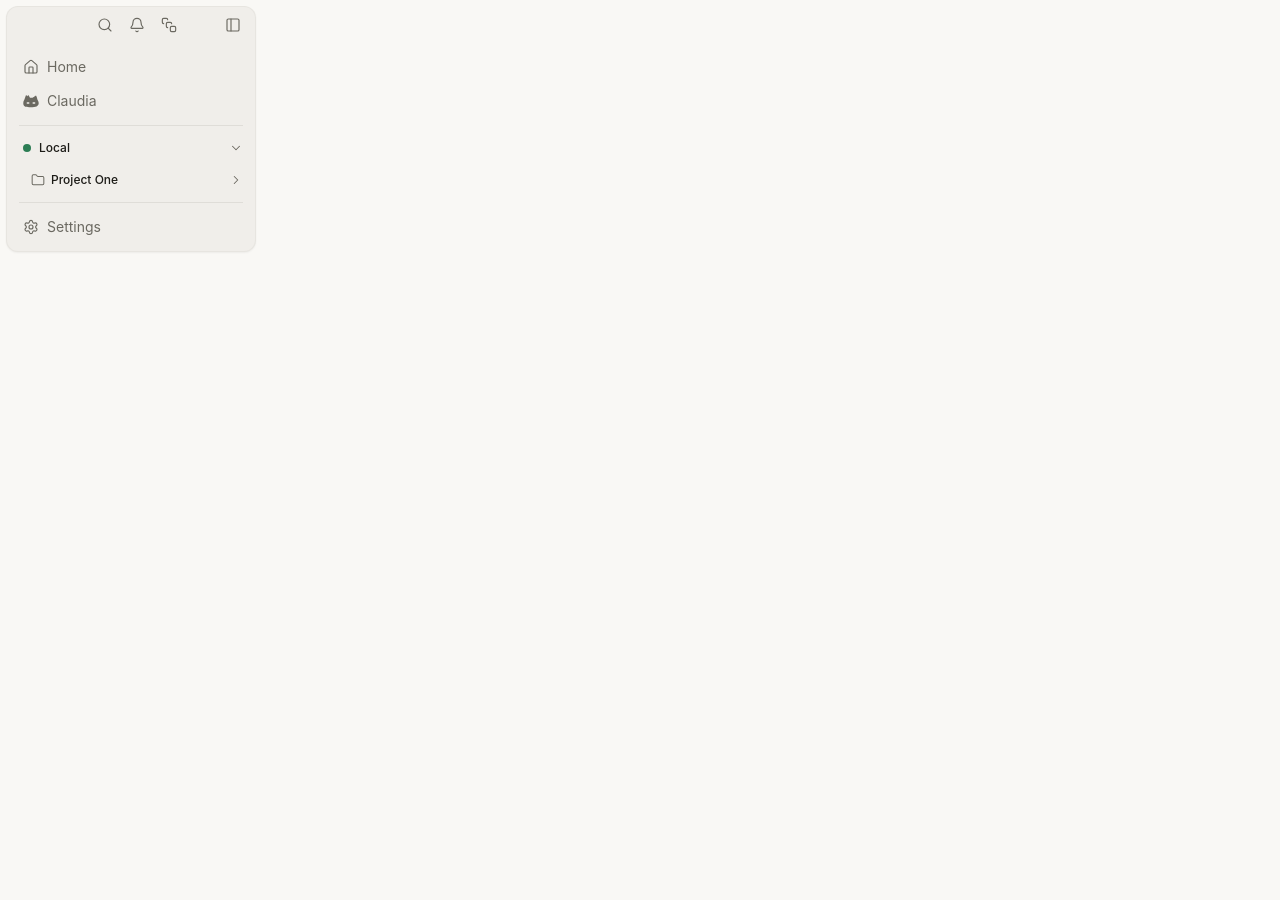
Test case: Sidebar › shows "Searching..." while search is in progress
Click the button titled "Search messages". click: [105, 25]
box: [91,11,119,39]
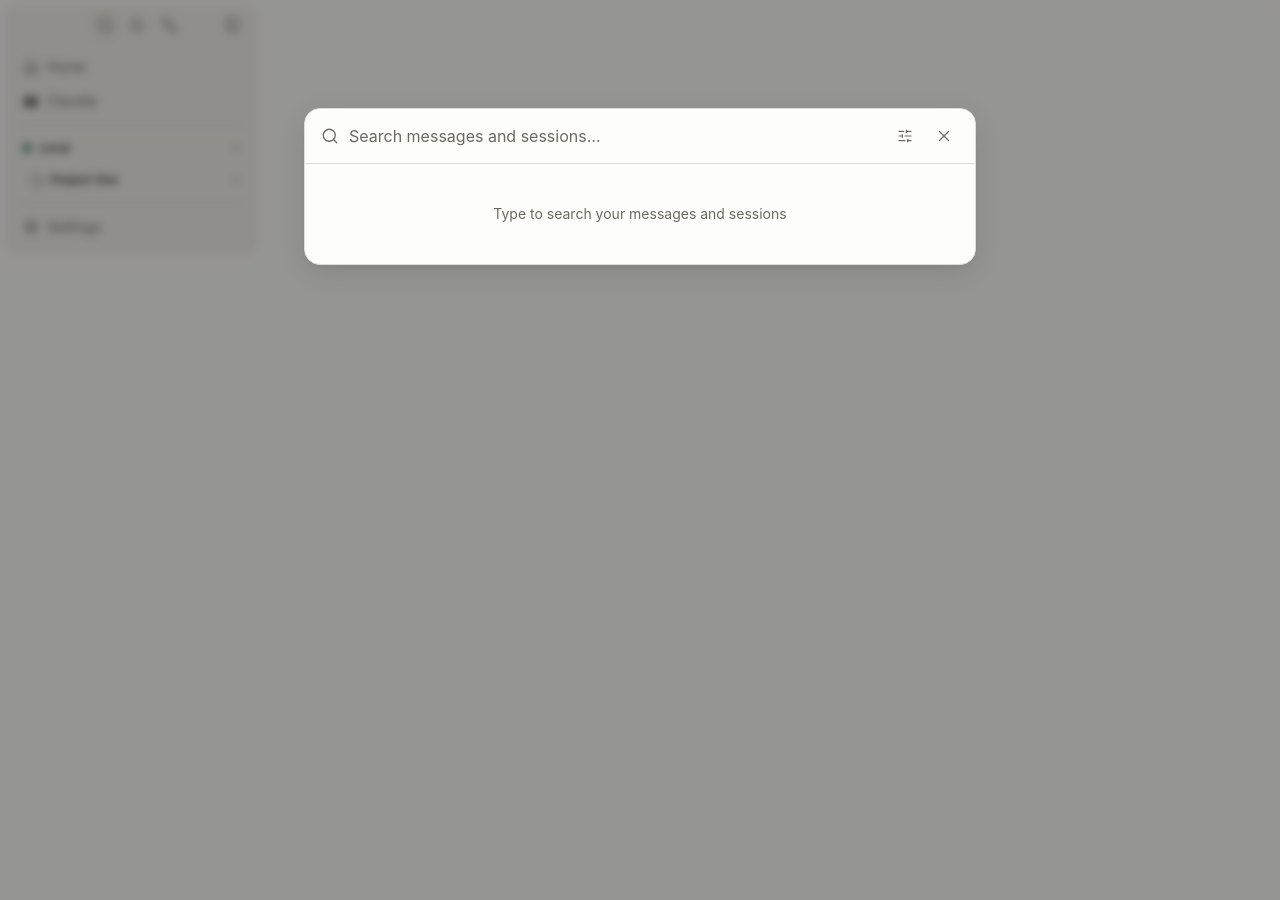
Type "test query" into the field with placeholder "Search messages and sessions…". click: [615, 136]
box: [349,124,881,148]
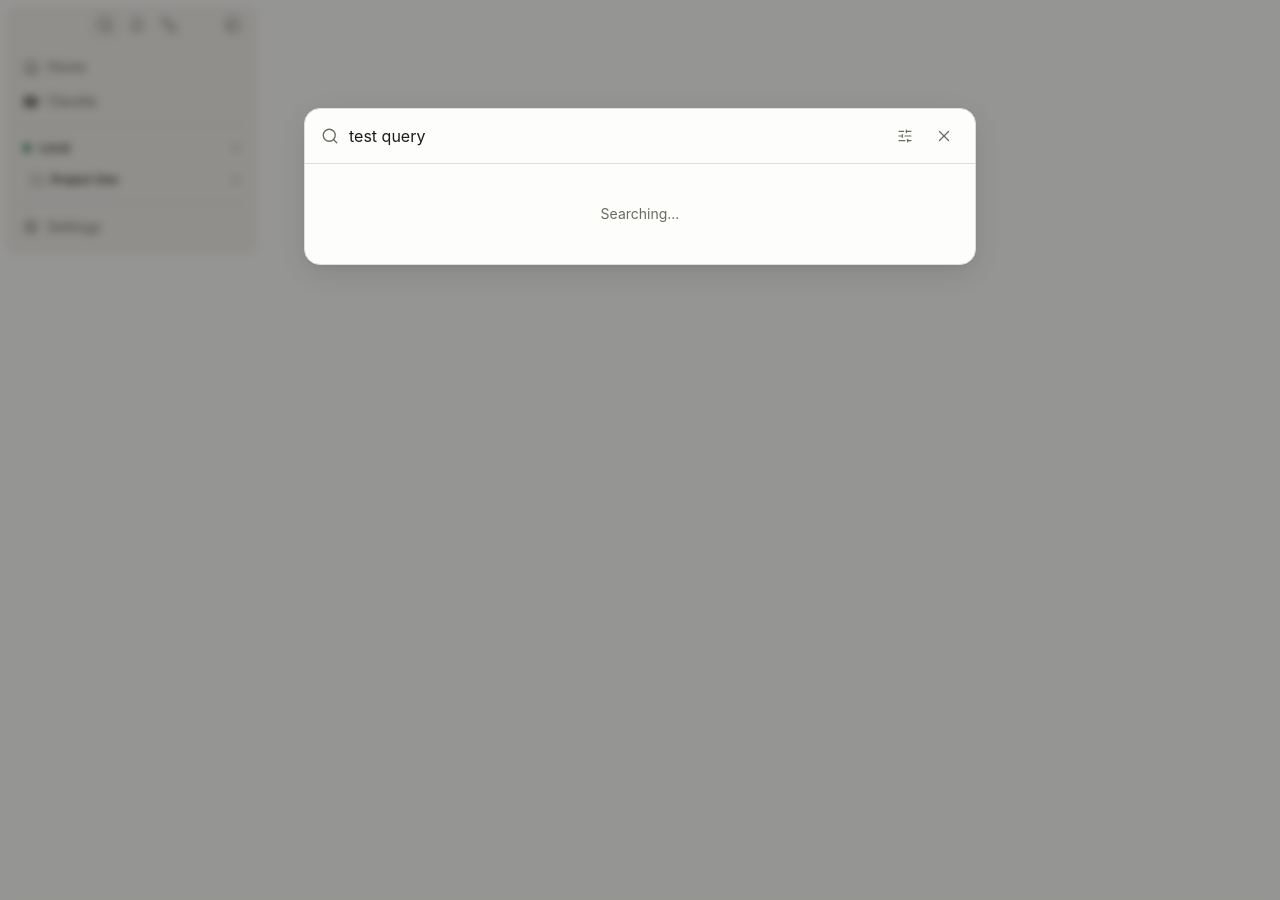
Expected: the text "Searching..." is shown, [601,205,679,222]
